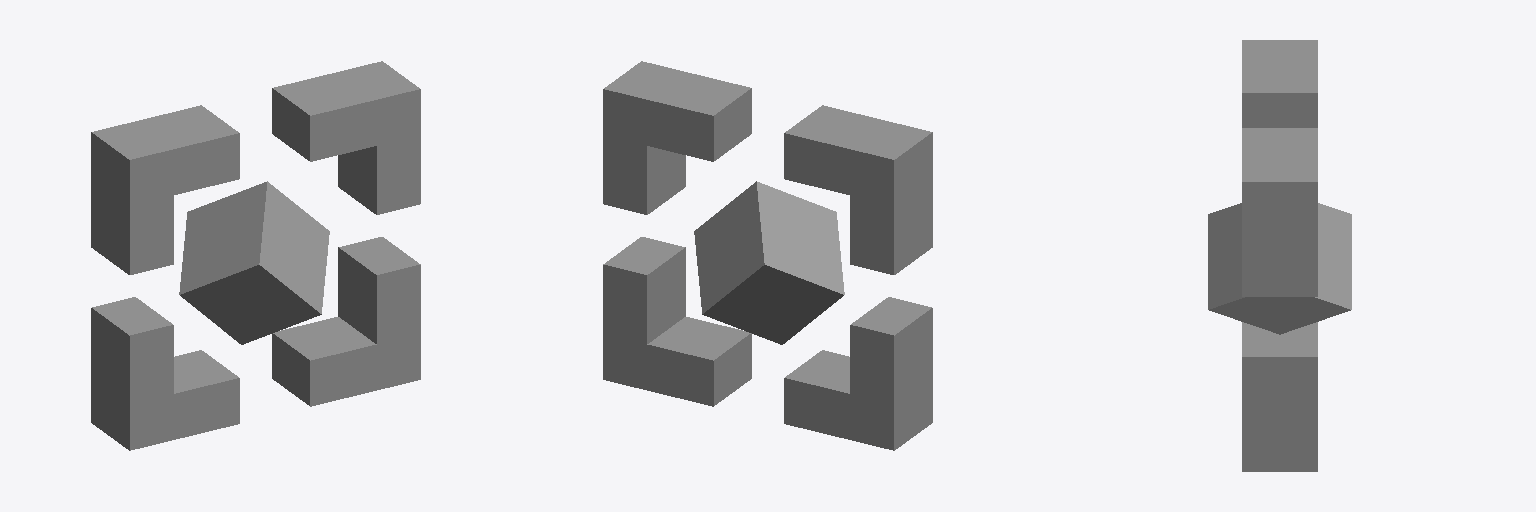
The model's file is square_border.obj.
The picture shows the model from 3 angles: view 1: azimuth 30°, elevation 25°; view 2: azimuth 150°, elevation 25°; view 3: azimuth 270°, elevation 25°; orthographic projection.
Parts seen in each view (by area): view 1: Cube; view 2: Cube; view 3: Cube.
Boxes of the visible parts, x1=… form: Cube: x1=91, y1=61, x2=420, y2=450; Cube: x1=603, y1=61, x2=932, y2=450; Cube: x1=1208, y1=40, x2=1351, y2=471.
Bounding box in the file's own units: 0.66 × 0.63 × 0.2828.